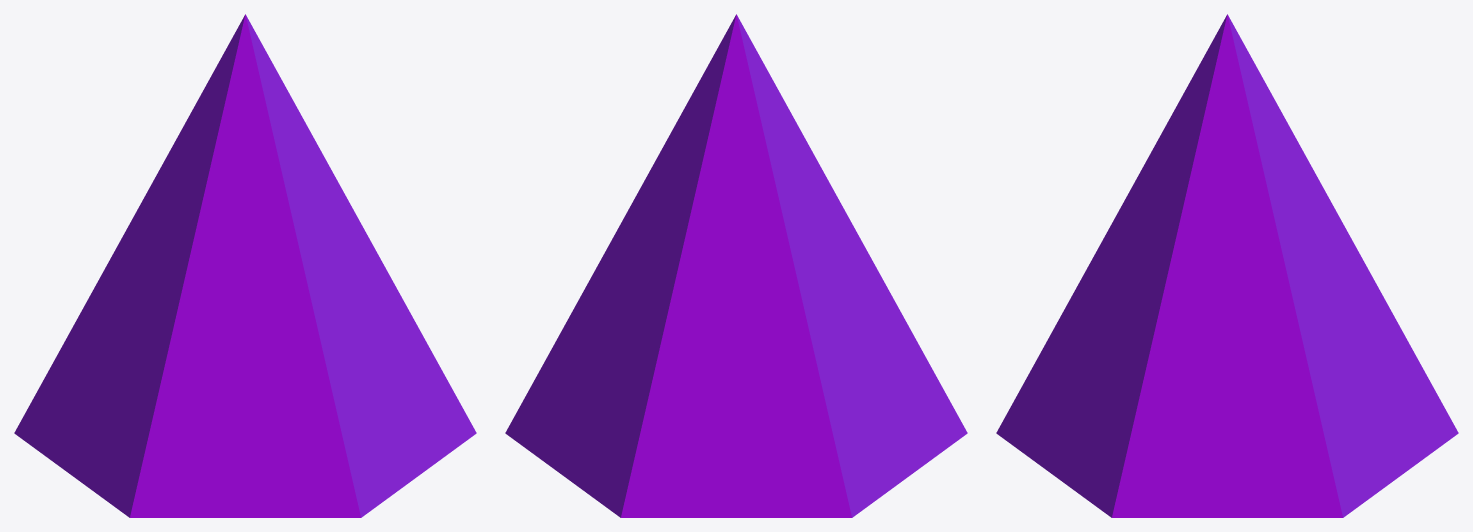
File: Thorn.fbx
3 views of the same model, side by side, from view 1: azimuth 30°, elevation 25°; view 2: azimuth 150°, elevation 25°; view 3: azimuth 270°, elevation 25° (orthographic).
Visible parts, largest first — view 1: Cone; view 2: Cone; view 3: Cone.
Boxes of the visible parts, x1,y1,x2,y2 form: Cone: (14, 14, 476, 517); Cone: (505, 14, 967, 517); Cone: (996, 14, 1458, 517).
Bounding box in the file's own units: 173 × 200 × 200.
